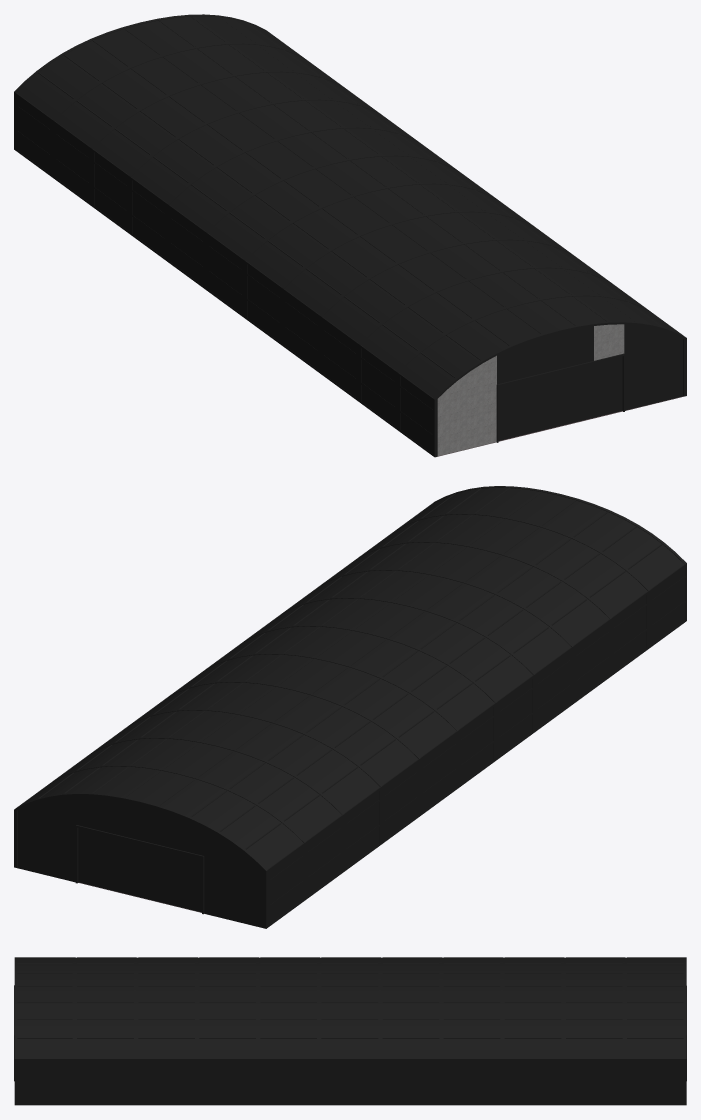
Rendered from stock_pavilion.dae.
3 views of the same model, one above another, from view 1: azimuth 30°, elevation 25°; view 2: azimuth 150°, elevation 25°; view 3: azimuth 270°, elevation 25° (orthographic). The views are drawn at different scales.
Visible parts, largest first — view 1: NurbsPath.005; view 2: NurbsPath.005; view 3: NurbsPath.005.
Part boxes in pixels (x1=…): NurbsPath.005: x1=14, y1=14, x2=686, y2=457; NurbsPath.005: x1=14, y1=486, x2=686, y2=928; NurbsPath.005: x1=14, y1=957, x2=686, y2=1105.
Size of the model in its own units: 48 by 139 by 17.58.
4 materials, 1 textured.
